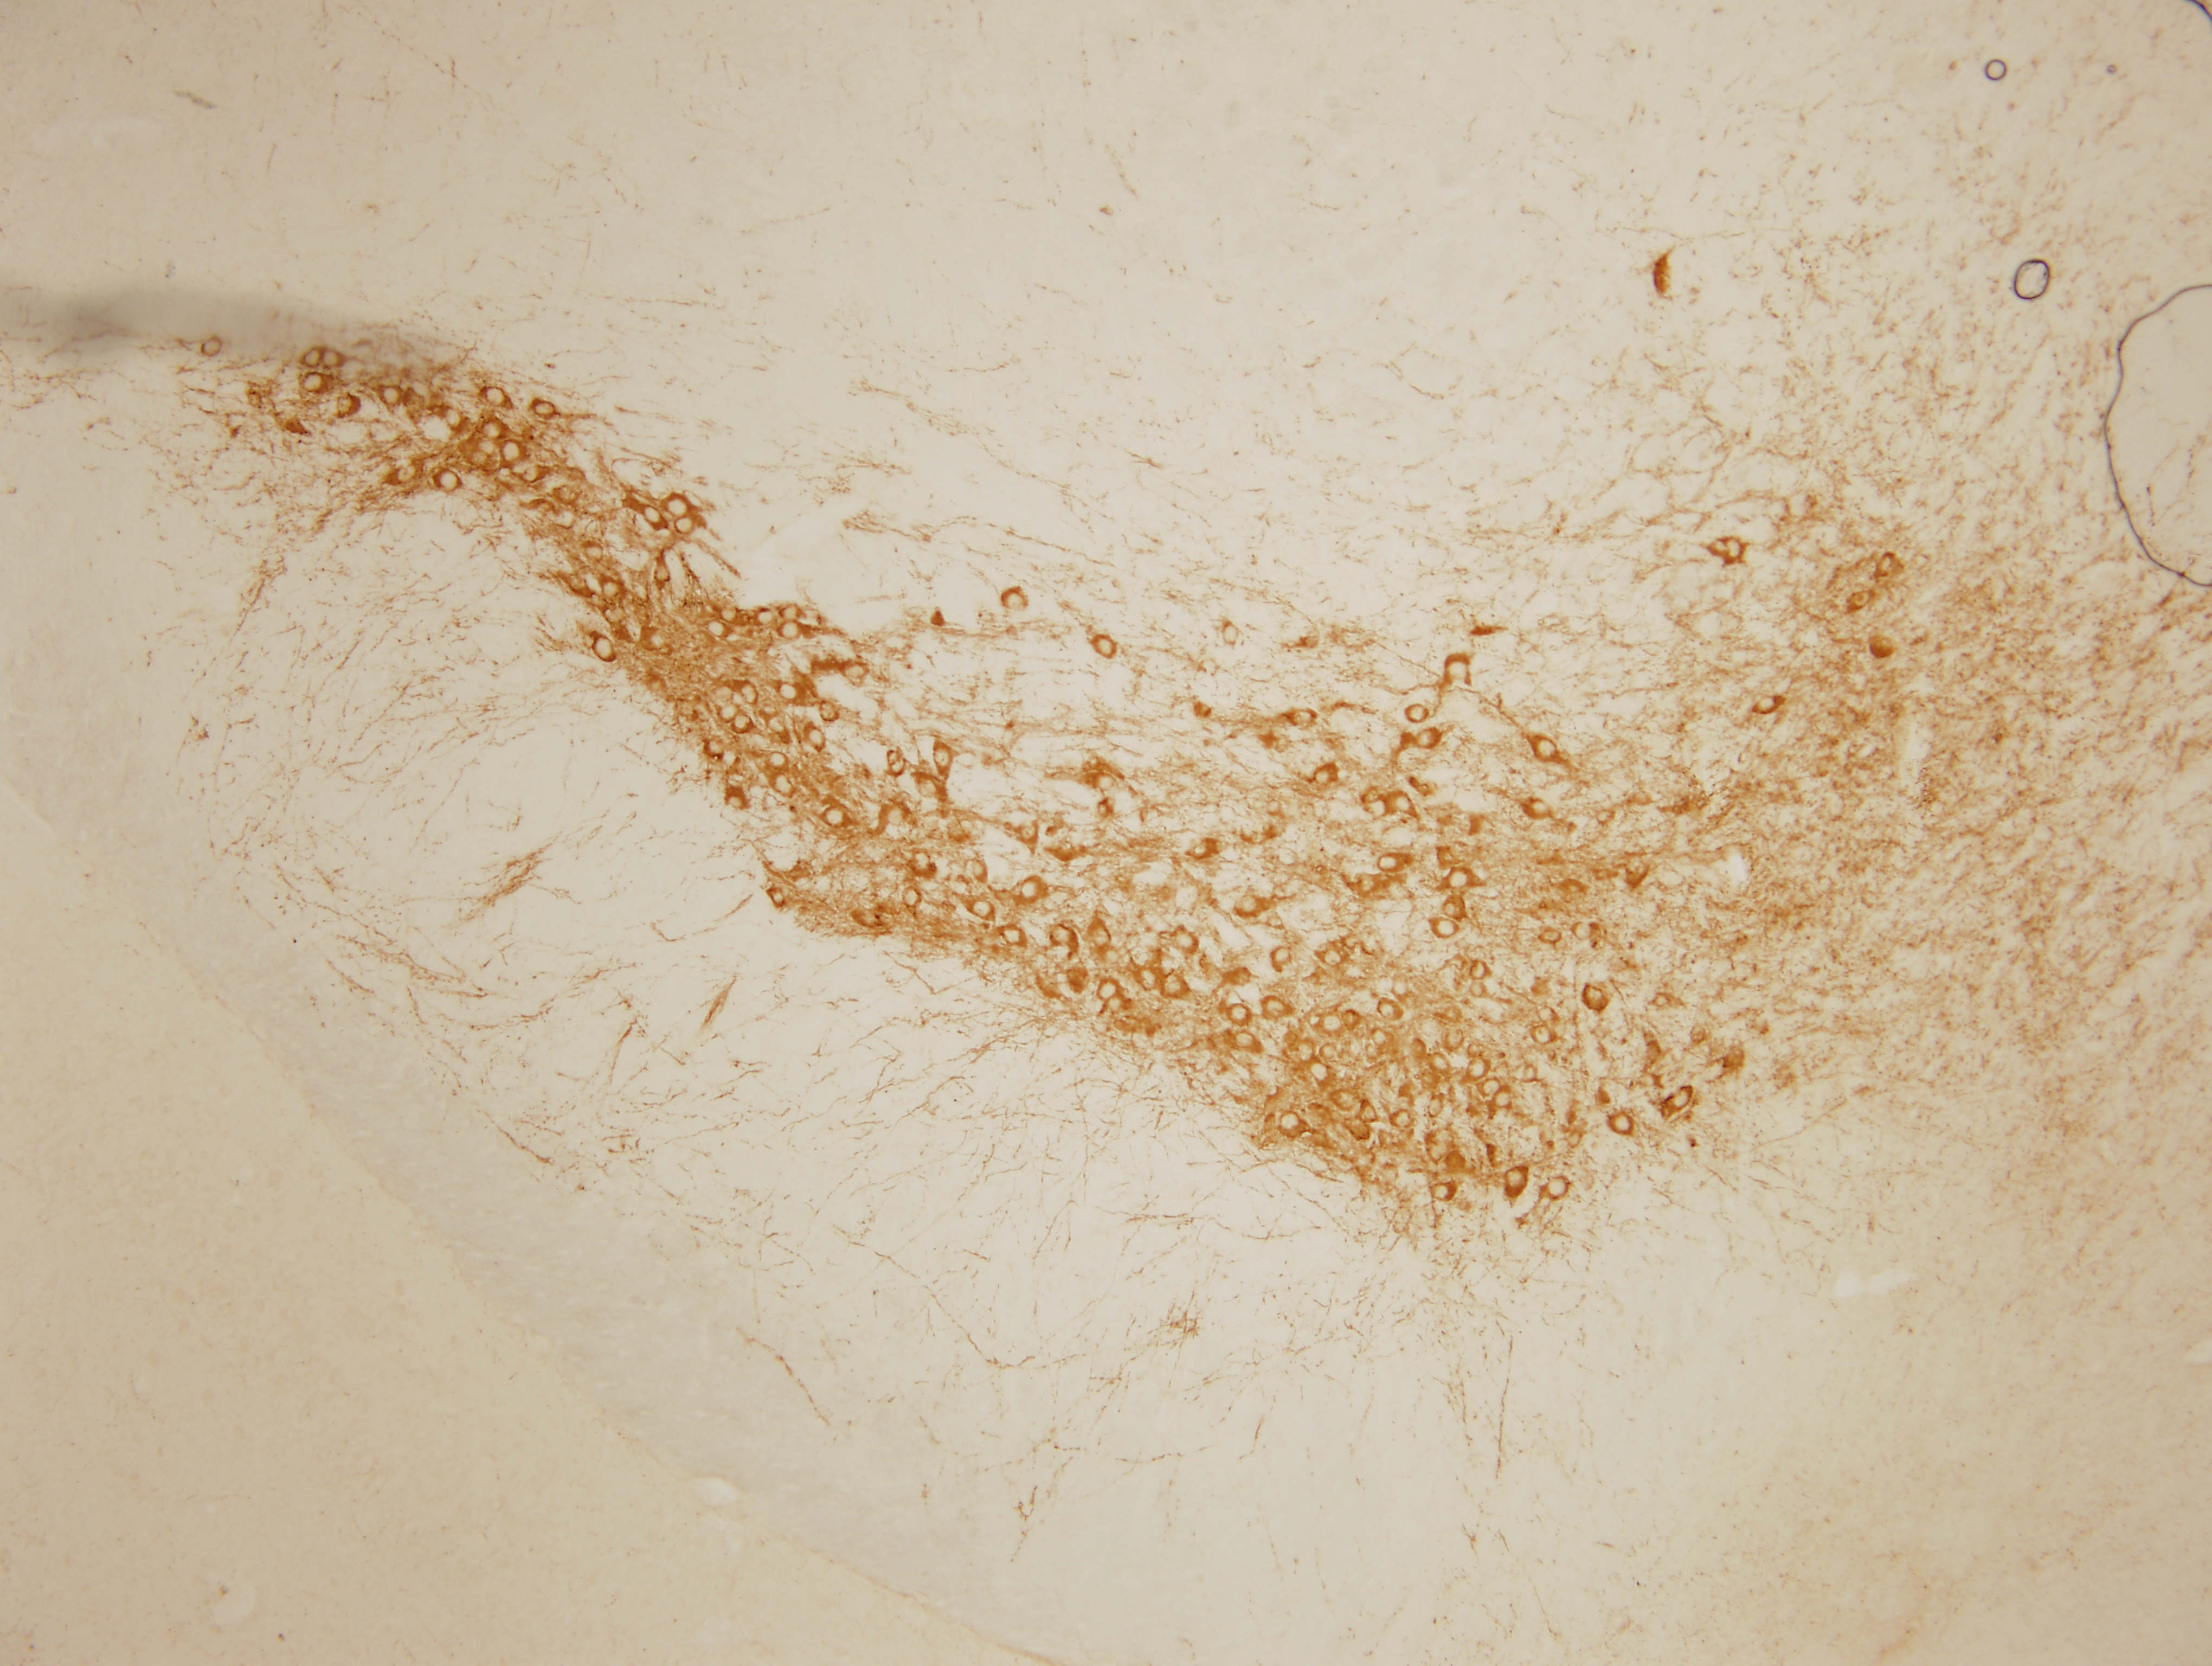neuron: (1530, 733, 1563, 766), (998, 585, 1030, 618), (1089, 630, 1121, 663), (579, 539, 605, 565), (598, 578, 624, 604), (638, 504, 664, 530), (664, 494, 691, 520), (731, 711, 757, 737), (738, 683, 764, 709), (764, 886, 790, 912), (764, 749, 790, 775), (775, 679, 801, 705), (778, 602, 804, 628), (804, 726, 831, 753), (822, 805, 848, 831), (843, 660, 869, 686), (899, 886, 925, 912), (930, 746, 956, 772), (970, 898, 997, 924), (1002, 924, 1028, 950), (1018, 877, 1044, 903), (1051, 922, 1077, 949), (1089, 926, 1116, 952), (1095, 978, 1121, 1005), (1135, 968, 1161, 994), (1161, 973, 1187, 999), (1173, 929, 1200, 956), (1219, 621, 1245, 648), (1228, 1001, 1254, 1027), (1231, 1027, 1257, 1054), (1235, 894, 1261, 921), (1263, 996, 1289, 1022), (1268, 945, 1294, 971), (1278, 1111, 1304, 1138), (1306, 1061, 1332, 1087), (1318, 1011, 1345, 1038), (1320, 947, 1346, 973), (1367, 1024, 1394, 1050), (1390, 1108, 1416, 1134), (1404, 702, 1430, 728), (1427, 1050, 1453, 1076), (1427, 1179, 1453, 1206), (1432, 917, 1458, 943), (1443, 1026, 1469, 1052), (1446, 866, 1472, 893), (1465, 1057, 1492, 1083), (1479, 1076, 1506, 1102), (1492, 1085, 1518, 1111), (1530, 1024, 1556, 1050), (1534, 1003, 1560, 1029), (1537, 924, 1563, 950), (1546, 1176, 1572, 1202), (1609, 1111, 1635, 1138), (1668, 1087, 1694, 1113), (1722, 537, 1749, 563), (1754, 693, 1780, 719), (199, 334, 226, 361), (301, 371, 327, 397), (378, 383, 404, 410), (435, 469, 462, 495), (441, 406, 467, 432), (479, 416, 505, 443), (483, 383, 509, 410), (498, 439, 525, 466), (532, 397, 558, 424), (589, 637, 616, 661), (717, 700, 741, 726), (1374, 998, 1401, 1022), (1413, 728, 1439, 753), (1423, 1094, 1448, 1120), (1502, 1167, 1528, 1192), (1570, 919, 1595, 945), (778, 620, 803, 644), (1376, 851, 1401, 875), (1441, 898, 1462, 919), (322, 350, 343, 369), (675, 516, 694, 535), (708, 620, 727, 639), (757, 609, 776, 628), (913, 851, 932, 870), (1313, 768, 1332, 788), (1394, 795, 1413, 814), (1469, 961, 1488, 980), (1469, 982, 1488, 1001), (303, 350, 322, 369)
